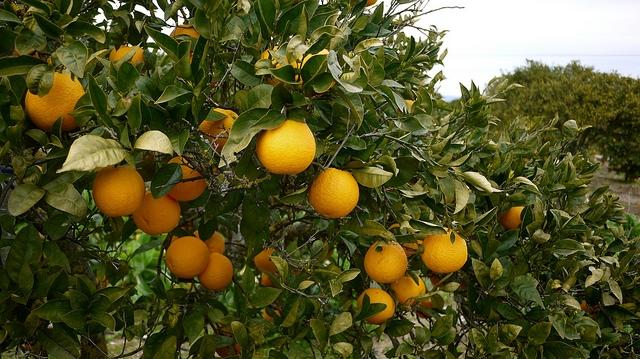orange: (25, 72, 86, 132), (256, 119, 316, 174), (92, 166, 146, 218), (309, 168, 359, 218), (420, 228, 468, 273), (132, 192, 180, 236), (364, 240, 408, 284), (165, 236, 210, 279), (199, 107, 239, 152), (167, 155, 206, 201), (357, 288, 395, 324), (198, 252, 232, 290), (387, 223, 423, 256), (390, 274, 426, 306), (170, 24, 200, 58), (268, 57, 298, 88), (213, 325, 241, 358), (109, 45, 145, 67), (193, 230, 224, 255), (254, 248, 278, 274), (500, 206, 524, 230), (580, 302, 600, 320), (416, 298, 432, 318), (428, 271, 444, 288), (13, 48, 39, 58), (260, 46, 278, 59), (264, 308, 280, 322), (262, 272, 276, 286), (95, 276, 108, 290), (405, 99, 415, 110), (365, 0, 378, 7)
